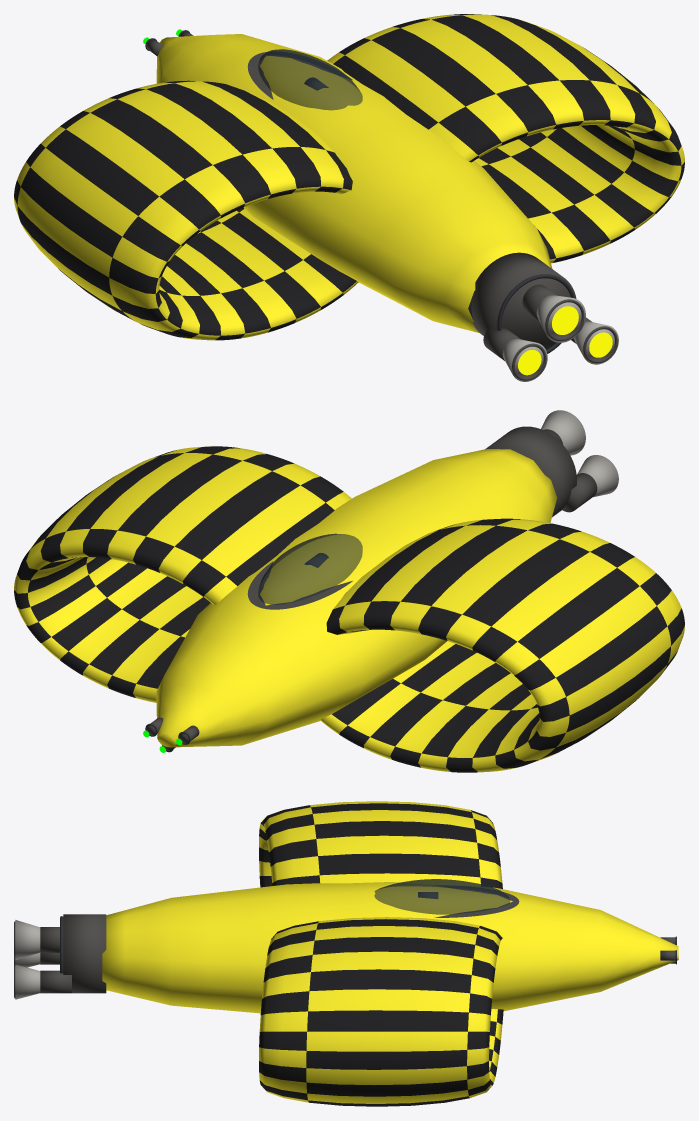
Rendered from Ship_TwoHoop_428113.glb.
The picture shows the model from 3 angles, top to bottom: view 1: azimuth 30°, elevation 25°; view 2: azimuth 150°, elevation 25°; view 3: azimuth 270°, elevation 25°; orthographic projection. The views are drawn at different scales.
Visible parts, largest first — view 1: Hoop_Left_StructuralRing_YAxisHole_CenterTangent_AftSwept, Hoop_Right_StructuralRing_YAxisHole_CenterTangent_AftSwept, Fuselage_MainCenteredHull_CenterOfMassAtOrigin, EngineBlock_AftHullIntegratedMountPlate, CanopyGlass_LowForwardPodDome, EngineEmitter, CanopyFrame_LowInsetOvalRim, EngineBell_CenterUpper_AftHullBurnishedNozzle, EngineBell_LeftLower_AftHullBurnishedNozzle, EngineBell_RightLower_AftHullBurnishedNozzle, EngineBlock_AftHullDarkTrimRing, EngineThroat_LeftLower_AftHullDarkSocket (+1 smaller); view 2: Hoop_Left_StructuralRing_YAxisHole_CenterTangent_AftSwept, Hoop_Right_StructuralRing_YAxisHole_CenterTangent_AftSwept, Fuselage_MainCenteredHull_CenterOfMassAtOrigin, CanopyGlass_LowForwardPodDome, EngineBlock_AftHullIntegratedMountPlate, EngineBell_CenterUpper_AftHullBurnishedNozzle, CanopyFrame_LowInsetOvalRim, EngineBell_LeftLower_AftHullBurnishedNozzle, EngineThroat_LeftLower_AftHullDarkSocket; view 3: Hoop_Right_StructuralRing_YAxisHole_CenterTangent_AftSwept, Fuselage_MainCenteredHull_CenterOfMassAtOrigin, Hoop_Left_StructuralRing_YAxisHole_CenterTangent_AftSwept, CanopyGlass_LowForwardPodDome, EngineBlock_AftHullIntegratedMountPlate, EngineBell_CenterUpper_AftHullBurnishedNozzle, EngineBell_RightLower_AftHullBurnishedNozzle, CanopyFrame_LowInsetOvalRim, EngineThroat_RightLower_AftHullDarkSocket, EngineThroat_CenterUpper_AftHullDarkSocket.
Boxes of the visible parts, x1,y1,x2,y2 form: Hoop_Left_StructuralRing_YAxisHole_CenterTangent_AftSwept: (14, 80, 358, 340); Hoop_Right_StructuralRing_YAxisHole_CenterTangent_AftSwept: (327, 14, 684, 263); Fuselage_MainCenteredHull_CenterOfMassAtOrigin: (156, 34, 552, 332); EngineBlock_AftHullIntegratedMountPlate: (471, 252, 576, 353); CanopyGlass_LowForwardPodDome: (258, 49, 362, 110); EngineEmitter: (518, 306, 612, 375); CanopyFrame_LowInsetOvalRim: (247, 52, 352, 99); EngineBell_CenterUpper_AftHullBurnishedNozzle: (536, 295, 585, 342); EngineBell_LeftLower_AftHullBurnishedNozzle: (502, 339, 547, 381); EngineBell_RightLower_AftHullBurnishedNozzle: (574, 321, 618, 364); EngineBlock_AftHullDarkTrimRing: (497, 274, 575, 353); EngineThroat_LeftLower_AftHullDarkSocket: (483, 327, 520, 360); Hoop_Left_StructuralRing_YAxisHole_CenterTangent_AftSwept: (320, 518, 684, 772); Hoop_Right_StructuralRing_YAxisHole_CenterTangent_AftSwept: (14, 446, 351, 702); Fuselage_MainCenteredHull_CenterOfMassAtOrigin: (156, 449, 557, 747); CanopyGlass_LowForwardPodDome: (258, 533, 362, 604); EngineBlock_AftHullIntegratedMountPlate: (485, 426, 576, 517); EngineBell_CenterUpper_AftHullBurnishedNozzle: (541, 410, 585, 455); CanopyFrame_LowInsetOvalRim: (247, 561, 352, 609); EngineBell_LeftLower_AftHullBurnishedNozzle: (577, 455, 618, 497); EngineThroat_LeftLower_AftHullDarkSocket: (562, 473, 597, 512); Hoop_Right_StructuralRing_YAxisHole_CenterTangent_AftSwept: (259, 917, 503, 1106); Fuselage_MainCenteredHull_CenterOfMassAtOrigin: (102, 882, 678, 1013); Hoop_Left_StructuralRing_YAxisHole_CenterTangent_AftSwept: (259, 801, 502, 888); CanopyGlass_LowForwardPodDome: (374, 879, 510, 914); EngineBlock_AftHullIntegratedMountPlate: (63, 914, 106, 993); EngineBell_CenterUpper_AftHullBurnishedNozzle: (15, 920, 40, 959); EngineBell_RightLower_AftHullBurnishedNozzle: (15, 964, 40, 999); CanopyFrame_LowInsetOvalRim: (434, 886, 519, 917); EngineThroat_RightLower_AftHullDarkSocket: (40, 970, 71, 993); EngineThroat_CenterUpper_AftHullDarkSocket: (40, 927, 59, 952).
Bounding box in the file's own units: 4.57 × 1.38 × 5.59.
